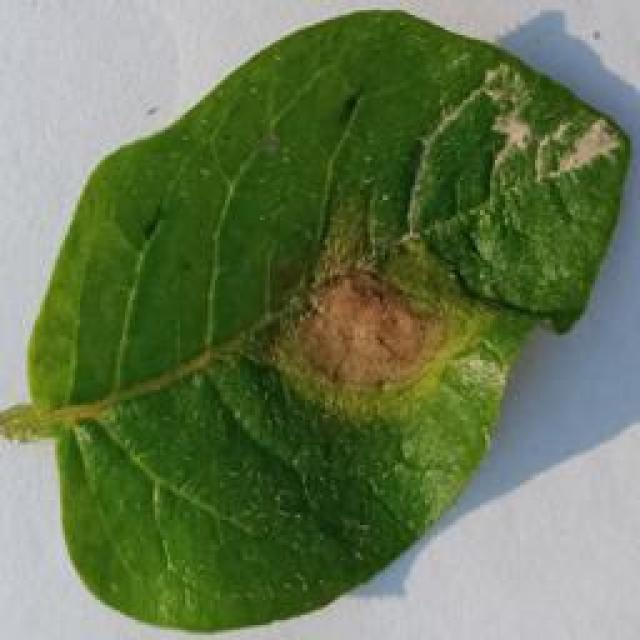Potato_Late_Blight: (15, 10, 622, 633)
